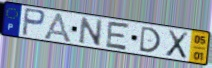A: (41, 12, 74, 45)
D: (138, 25, 163, 54)
E: (104, 20, 132, 52)
N: (78, 15, 104, 47)
P: (21, 6, 47, 38)
X: (164, 28, 190, 60)
